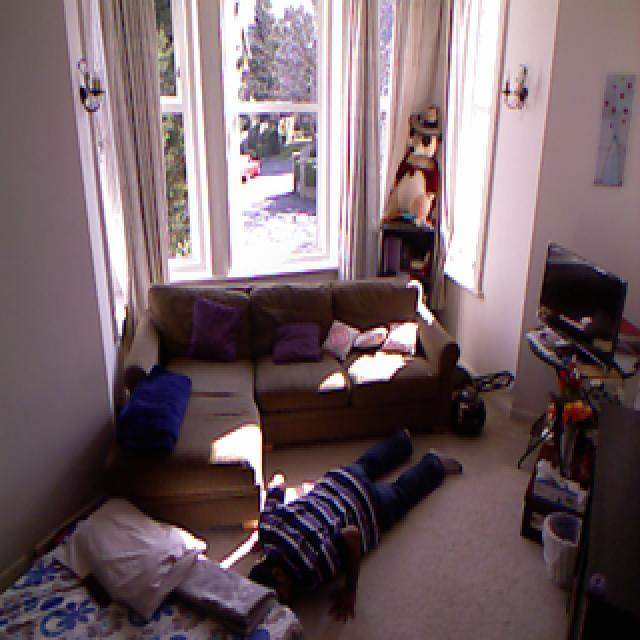lying: (250, 425, 467, 620)
